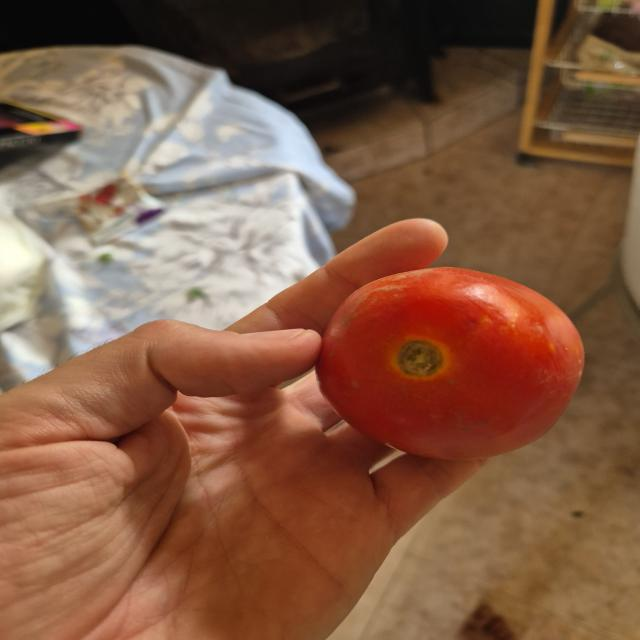tomate: (320, 268, 586, 462)
